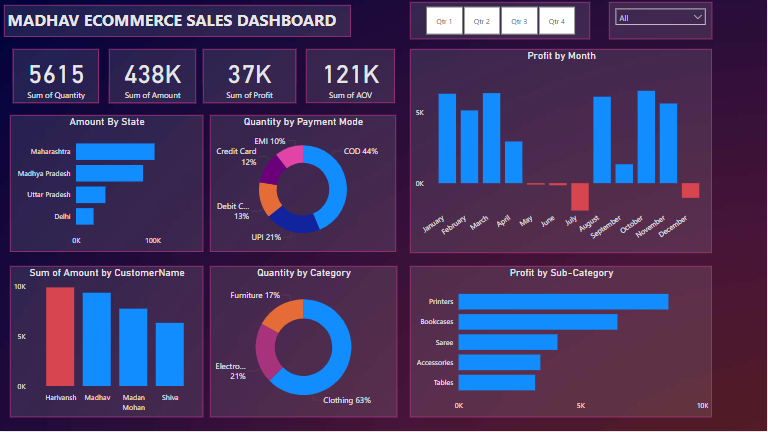

The page's visual inventory and layout, read from the dashboard file:
{"tool":"powerbi","page":{"name":"Page 1","canvas":[1280,720],"ordinal":0},"visuals":[{"type":"textbox","box":[8.3,10,578.3,53.3],"z":0},{"type":"columnChart","title":"Profit by Month","fields":{"Y":["Details.Profit"],"Category":["Orders.Order Date.Variation.Date Hierarchy.Month"]},"box":[685,83.3,503.3,340],"z":1000},{"type":"barChart","title":"Profit by Sub-Category","fields":{"Category":["Details.Sub-Category"],"Y":["Details.Profit"]},"box":[685,445,503.3,251.7],"z":2000},{"type":"donutChart","title":"Quantity by Category","fields":{"Y":["Details.Quantity"],"Category":["Details.Category"]},"box":[351.7,445,311.7,251.7],"z":3000},{"type":"donutChart","title":"Quantity by Payment Mode","fields":{"Y":["Details.Quantity"],"Category":["Details.PaymentMode"]},"box":[351.7,193.3,310,228.3],"z":4000},{"type":"card","fields":{"Values":["Details.Amount"]},"box":[183.3,83.3,145,90],"z":5000},{"type":"card","fields":{"Values":["Details.Quantity"]},"box":[23.3,83.3,143.3,90],"z":6000},{"type":"card","fields":{"Values":["Details.Profit"]},"box":[340,83.3,155,90],"z":7000},{"type":"card","fields":{"Values":["Details.AOV"]},"box":[511.7,83.3,148.3,90],"z":8000},{"type":"barChart","title":"Amount By State","fields":{"Category":["Orders.State"],"Y":["Details.Amount"]},"box":[18.3,193.3,321.7,228.3],"z":8001},{"type":"columnChart","fields":{"Category":["Orders.CustomerName"],"Y":["Details.Amount"]},"box":[18,445,322,252],"z":8002},{"type":"slicer","fields":{"Values":["Orders.Order Date.Variation.Date Hierarchy.Quarter"]},"box":[685,5,300,61.7],"z":8003},{"type":"slicer","fields":{"Values":["Orders.State"]},"box":[1016.7,5,171.7,61.7],"z":8004}]}

Visuals, with their boxes in screenshot pixels (x1, y1, x2, y2), scaled from the page's 1280x720 canvas onto the 768x432 screenshot:
textbox: select_region(5, 6, 352, 38)
"Profit by Month" columnChart: select_region(411, 50, 713, 254)
"Profit by Sub-Category" barChart: select_region(411, 267, 713, 418)
"Quantity by Category" donutChart: select_region(211, 267, 398, 418)
"Quantity by Payment Mode" donutChart: select_region(211, 116, 397, 253)
card - Details.Amount: select_region(110, 50, 197, 104)
card - Details.Quantity: select_region(14, 50, 100, 104)
card - Details.Profit: select_region(204, 50, 297, 104)
card - Details.AOV: select_region(307, 50, 396, 104)
"Amount By State" barChart: select_region(11, 116, 204, 253)
columnChart - Orders.CustomerName x Details.Amount: select_region(11, 267, 204, 418)
slicer - Orders.Order Date.Variation.Date Hierarchy.Quarter: select_region(411, 3, 591, 40)
slicer - Orders.State: select_region(610, 3, 713, 40)
